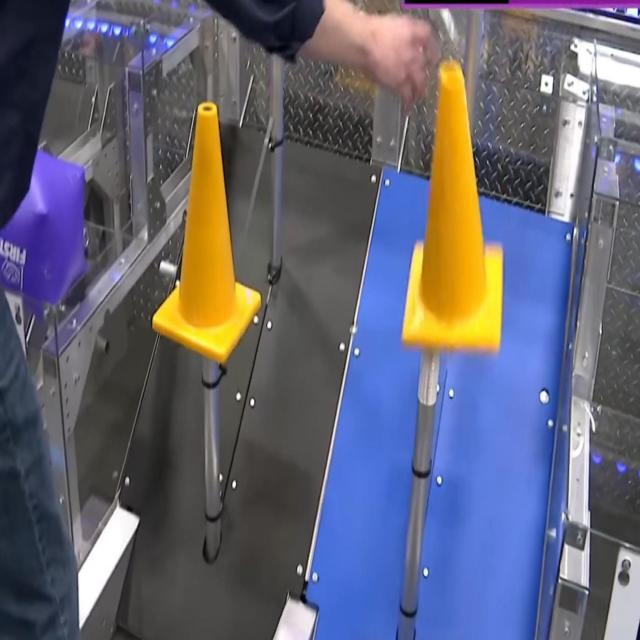frc_cone: (401, 67, 505, 356), (152, 104, 260, 362)
frc_cube: (0, 138, 90, 320)
